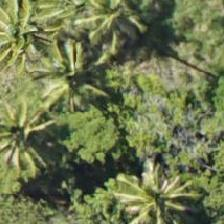coconut_tree: (11, 34, 101, 124), (118, 153, 208, 223), (0, 87, 67, 177), (68, 0, 158, 49), (0, 0, 59, 71)
